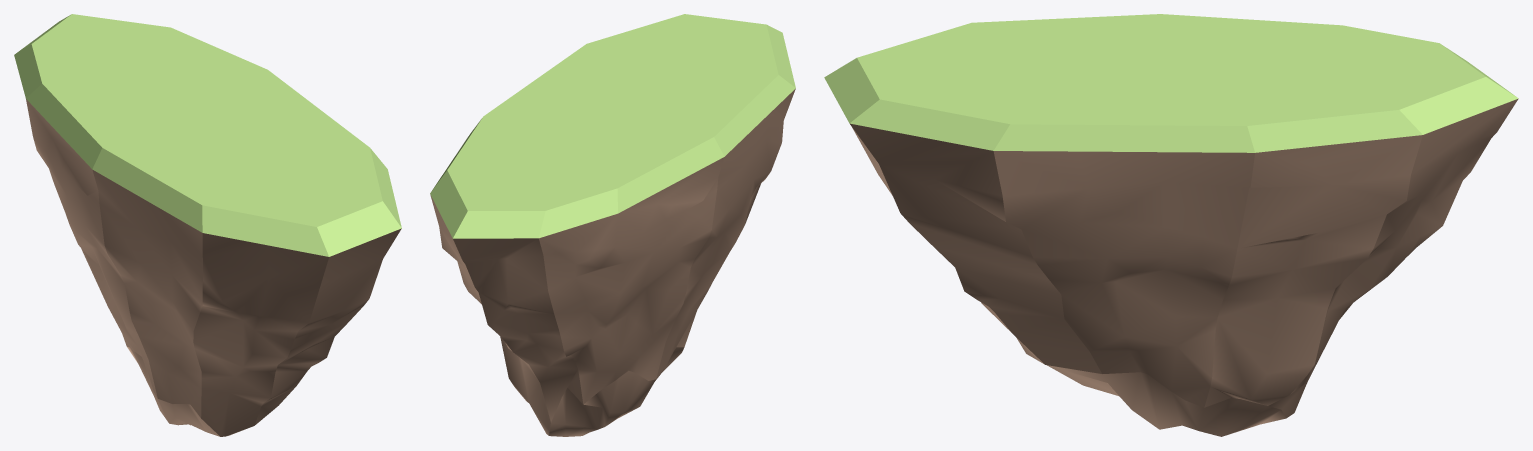
File: tile_4_4.fbx
The picture shows the model from 3 angles, left to right: view 1: azimuth 30°, elevation 25°; view 2: azimuth 150°, elevation 25°; view 3: azimuth 270°, elevation 25°; orthographic projection. The views are drawn at different scales.
Visible parts, largest first — view 1: Jump_Map_Tiles_4; view 2: Jump_Map_Tiles_4; view 3: Jump_Map_Tiles_4.
Boxes of the visible parts, x1=… form: Jump_Map_Tiles_4: x1=14, y1=14, x2=401, y2=436; Jump_Map_Tiles_4: x1=430, y1=14, x2=795, y2=436; Jump_Map_Tiles_4: x1=824, y1=14, x2=1518, y2=436.
Size of the model in its own units: 4 by 5.41 by 9.48.
